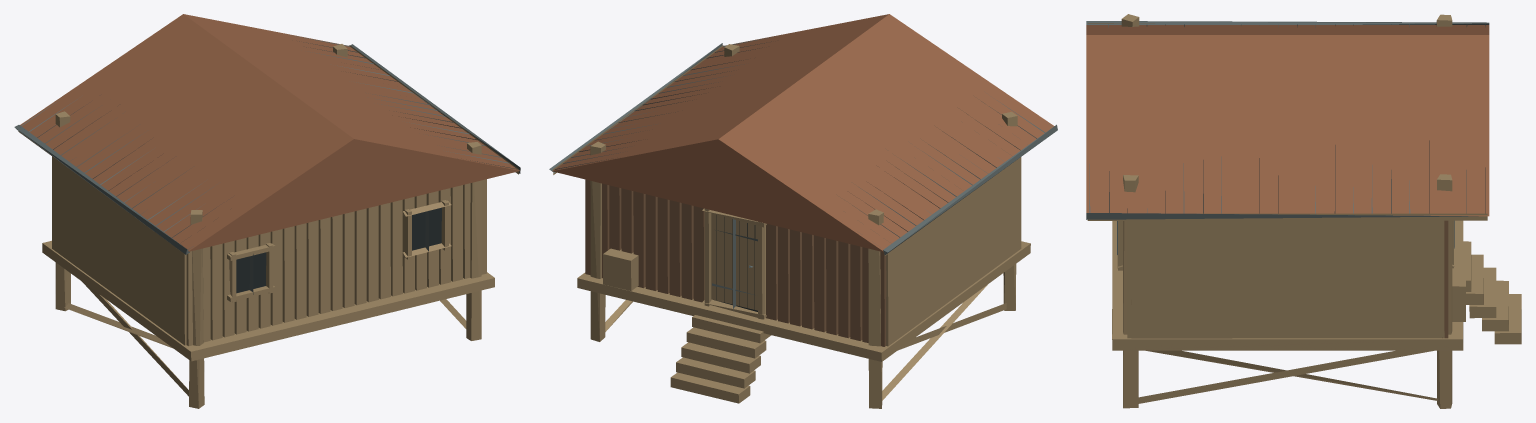
File: house_shack_low.glb
3 views of the same model, side by side, from view 1: azimuth 30°, elevation 25°; view 2: azimuth 150°, elevation 25°; view 3: azimuth 270°, elevation 25° (orthographic). The views are drawn at different scales.
Visible parts, largest first — view 1: house_shack.001; view 2: house_shack.001; view 3: house_shack.001.
Boxes of the visible parts, x1=… form: house_shack.001: x1=14, y1=14, x2=520, y2=408; house_shack.001: x1=549, y1=14, x2=1057, y2=408; house_shack.001: x1=1086, y1=14, x2=1521, y2=408.
Bounding box in the file's own units: 7.32 × 5.1 × 6.92.
